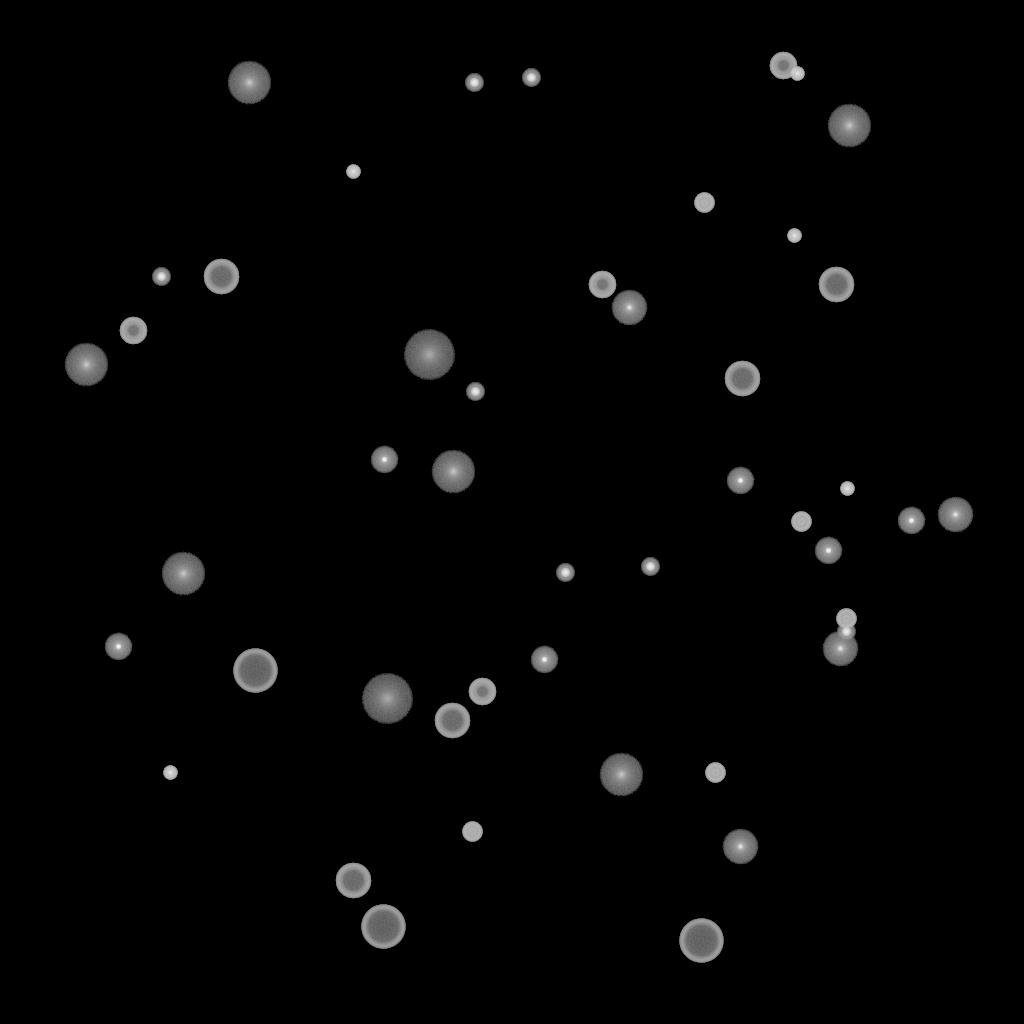depth:-10: (104, 633, 132, 661), (897, 507, 925, 535), (530, 646, 558, 674), (370, 446, 398, 474), (814, 537, 842, 565), (726, 467, 754, 495)
depth:-20: (522, 69, 540, 87), (152, 268, 170, 286), (641, 558, 659, 576), (466, 383, 484, 401), (837, 623, 855, 641), (556, 564, 574, 582), (465, 74, 483, 92)
depth:-30: (787, 229, 801, 243), (346, 165, 360, 179), (163, 766, 177, 780), (790, 67, 804, 81), (840, 482, 854, 496)
depth:-40: (462, 822, 482, 842), (694, 193, 714, 213), (791, 512, 811, 532), (836, 609, 856, 629), (705, 763, 725, 783)
depth:-50: (468, 678, 496, 706), (119, 317, 147, 345), (588, 271, 616, 299), (769, 52, 797, 80)
depth:-60: (724, 361, 760, 397), (203, 259, 239, 295), (434, 703, 470, 739), (818, 267, 854, 303), (335, 863, 371, 899)
depth:-70: (679, 919, 723, 963), (361, 905, 405, 949), (233, 649, 277, 693)
depth:0: (937, 497, 973, 533), (722, 829, 758, 865), (611, 290, 647, 326), (822, 631, 858, 667)
depth:10: (161, 552, 205, 596), (827, 104, 871, 148), (227, 61, 271, 105), (431, 450, 475, 494), (64, 343, 108, 387), (599, 753, 643, 797)
depth:20: (361, 674, 413, 724), (403, 330, 455, 380)
